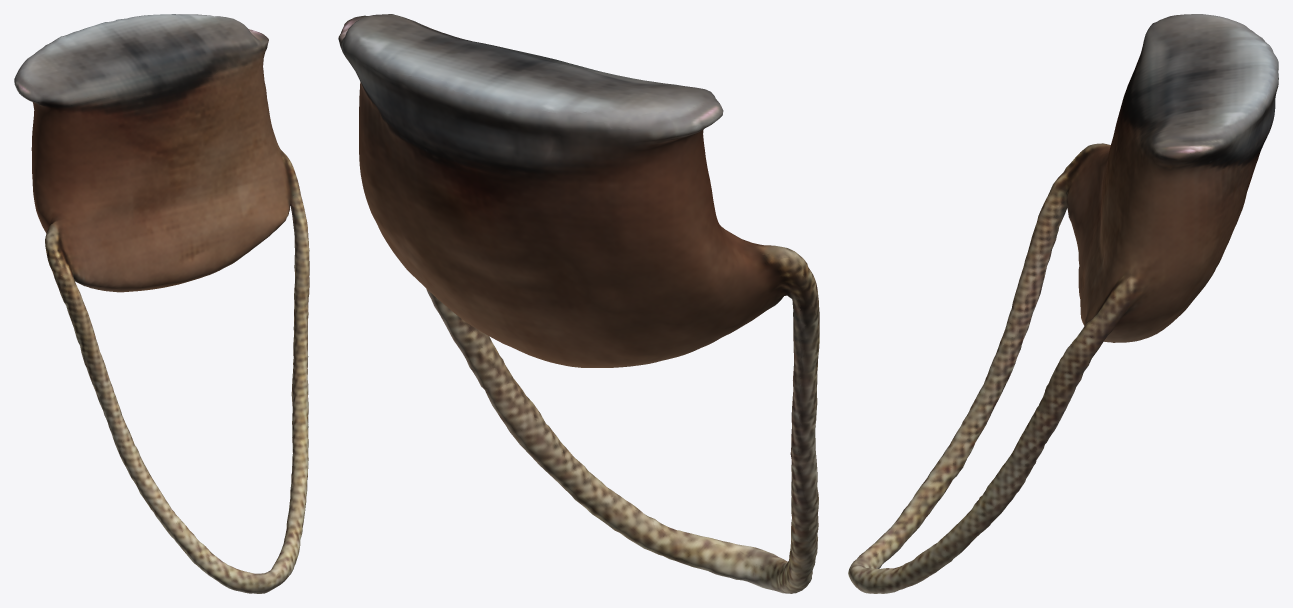
Rendered from cadenax3.glb.
3 views of the same model, side by side, from view 1: azimuth 30°, elevation 25°; view 2: azimuth 150°, elevation 25°; view 3: azimuth 270°, elevation 25° (orthographic). The views are drawn at different scales.
Parts seen in each view (by area): view 1: mesh; view 2: mesh; view 3: mesh.
Boxes of the visible parts, x1,y1,x2,y2 form: mesh: [14, 14, 309, 593]; mesh: [338, 14, 819, 593]; mesh: [848, 14, 1278, 593].
Bounding box in the file's own units: 1.01 × 1.63 × 1.2.
1 material, 1 textured.
